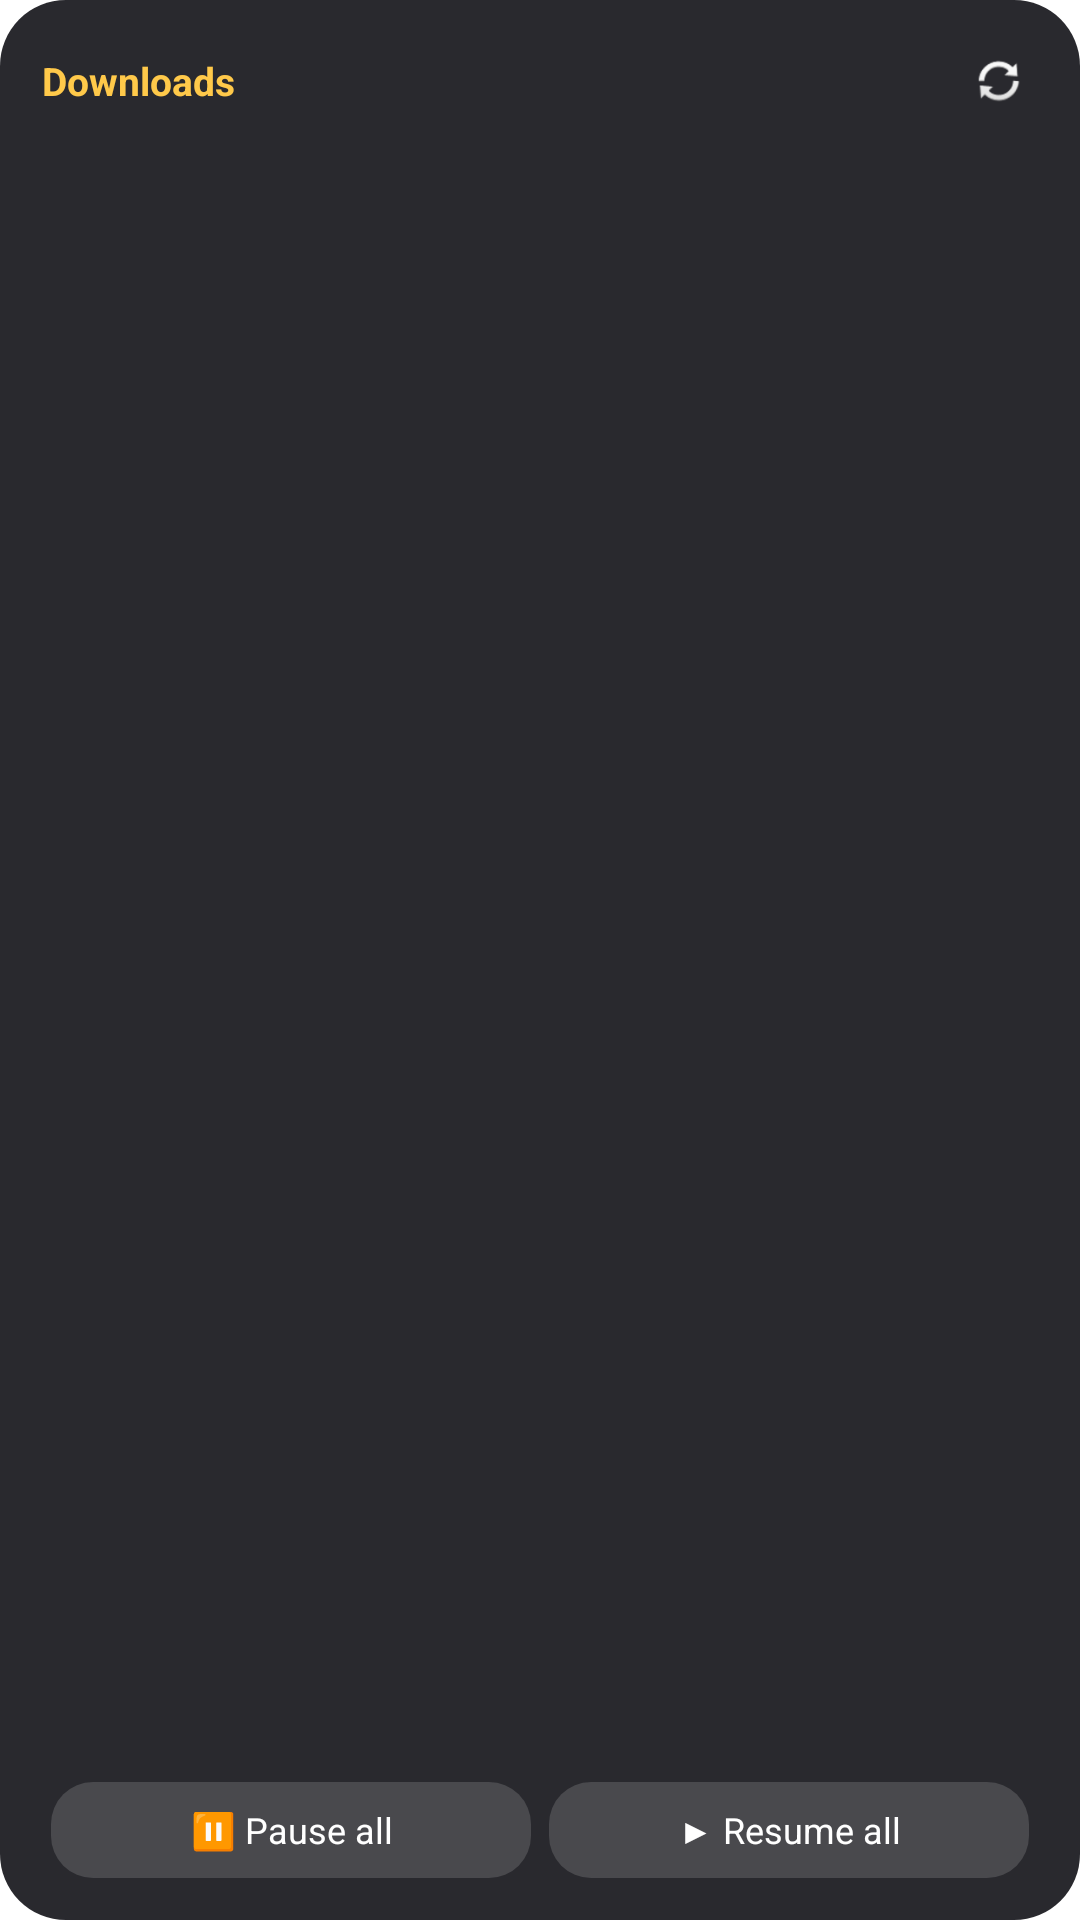

Locate icon controls on the screen. Image size 1080 × 1920, boxes as detection(x1, y1, x2, y2).
Refresh: detection(978, 61, 1019, 101)
